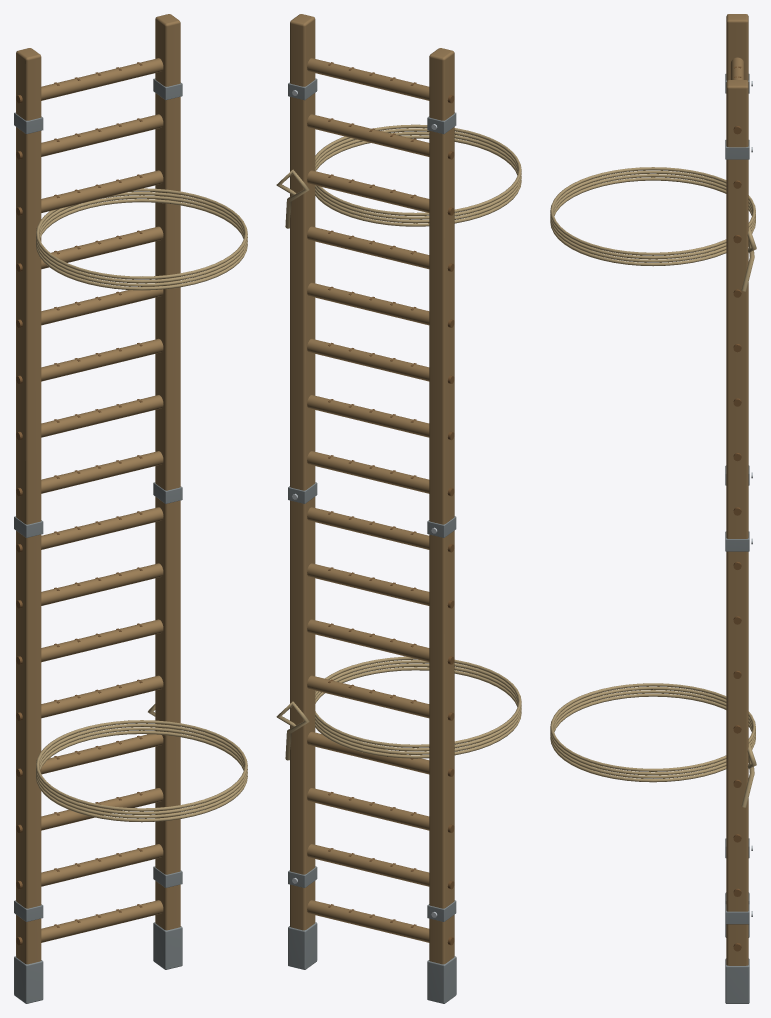
File: FieldLadder.fbx
3 views of the same model, side by side, from view 1: azimuth 30°, elevation 25°; view 2: azimuth 150°, elevation 25°; view 3: azimuth 270°, elevation 25° (orthographic). The views are drawn at different scales.
Parts seen in each view (by area): view 1: FieldLadder_Ladder_Wood, FieldLadder_Lashing_Rope, FieldLadder_Mount_Steel, FieldLadder_Wood_Endgrain; view 2: FieldLadder_Ladder_Wood, FieldLadder_Lashing_Rope, FieldLadder_Mount_Steel, FieldLadder_Wood_Endgrain; view 3: FieldLadder_Ladder_Wood, FieldLadder_Lashing_Rope, FieldLadder_Mount_Steel, FieldLadder_Wood_Endgrain.
Part boxes in pixels (left/top/right/bottom): FieldLadder_Ladder_Wood: left=16, top=14, right=180, bottom=964; FieldLadder_Lashing_Rope: left=36, top=188, right=247, bottom=822; FieldLadder_Mount_Steel: left=14, top=78, right=182, bottom=1003; FieldLadder_Wood_Endgrain: left=16, top=62, right=142, bottom=945; FieldLadder_Ladder_Wood: left=290, top=14, right=454, bottom=964; FieldLadder_Lashing_Rope: left=276, top=124, right=521, bottom=760; FieldLadder_Mount_Steel: left=288, top=78, right=456, bottom=1003; FieldLadder_Wood_Endgrain: left=328, top=62, right=454, bottom=945; FieldLadder_Ladder_Wood: left=726, top=14, right=748, bottom=965; FieldLadder_Lashing_Rope: left=550, top=167, right=756, bottom=807; FieldLadder_Mount_Steel: left=725, top=74, right=749, bottom=1003; FieldLadder_Wood_Endgrain: left=733, top=66, right=741, bottom=951.
Bounding box in the file's own units: 97.6 × 480 × 97.92.
